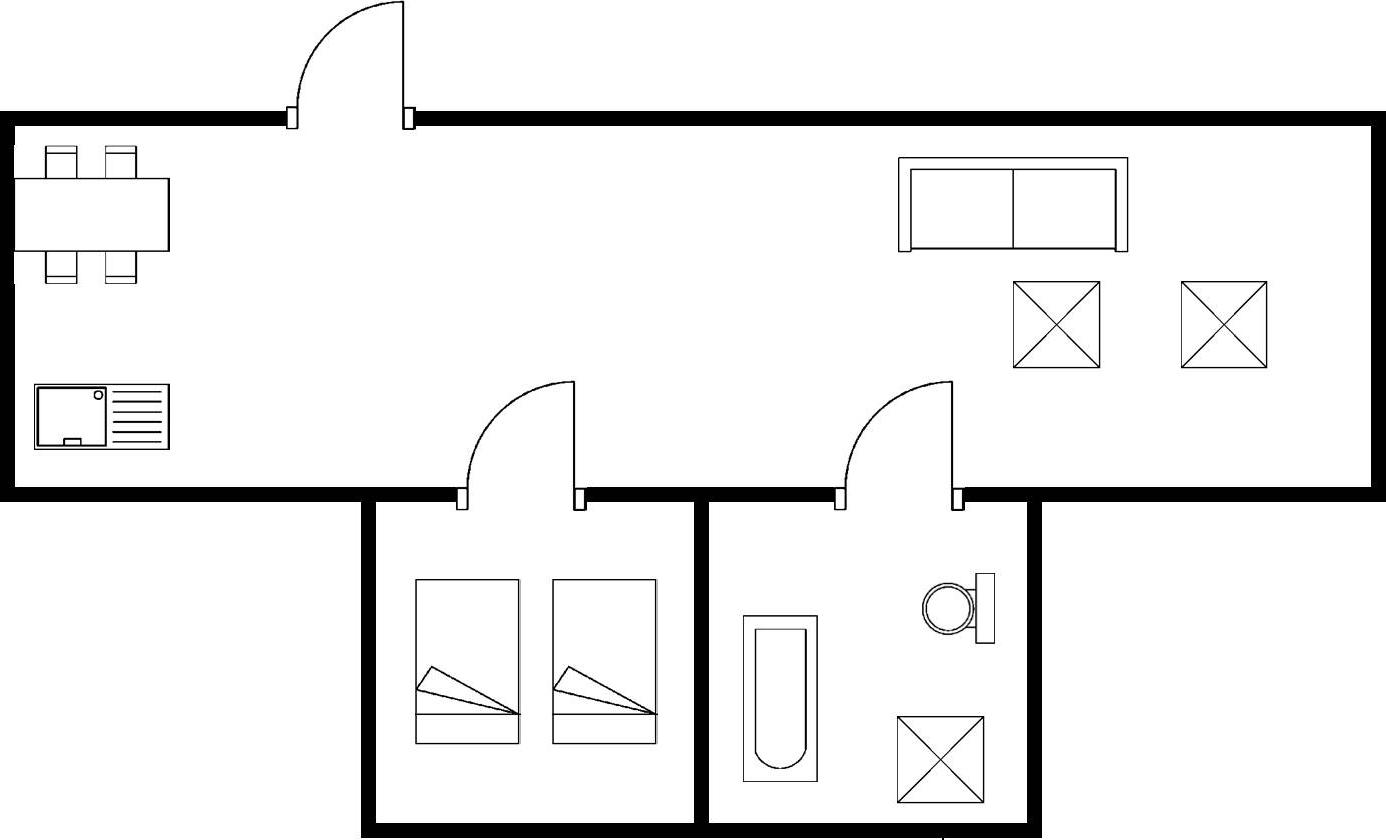bed: (546, 570, 666, 750), (412, 572, 526, 749)
dining_table: (11, 136, 179, 291)
sink: (31, 375, 177, 457)
sofa: (891, 152, 1137, 256)
toilet: (918, 567, 1000, 649)
tub: (739, 608, 827, 785)
